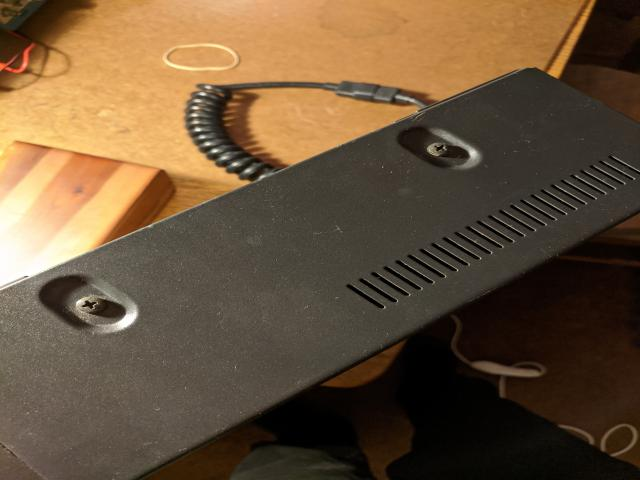CRS: (73, 297, 107, 314), (426, 142, 454, 156)
